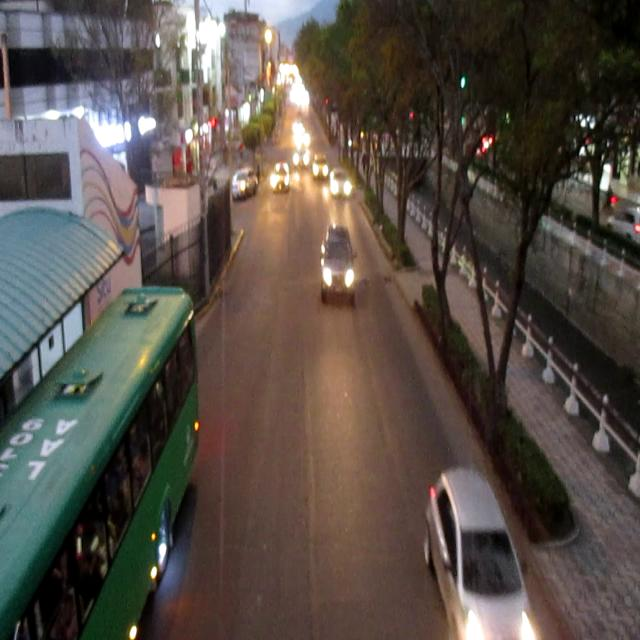BUS: (3, 288, 204, 638)
SUV: (234, 169, 257, 199)
